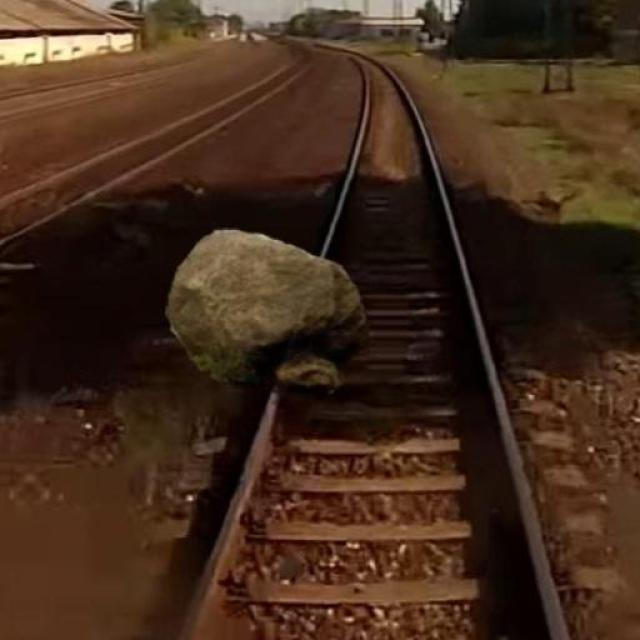Stone: (165, 226, 380, 390)
